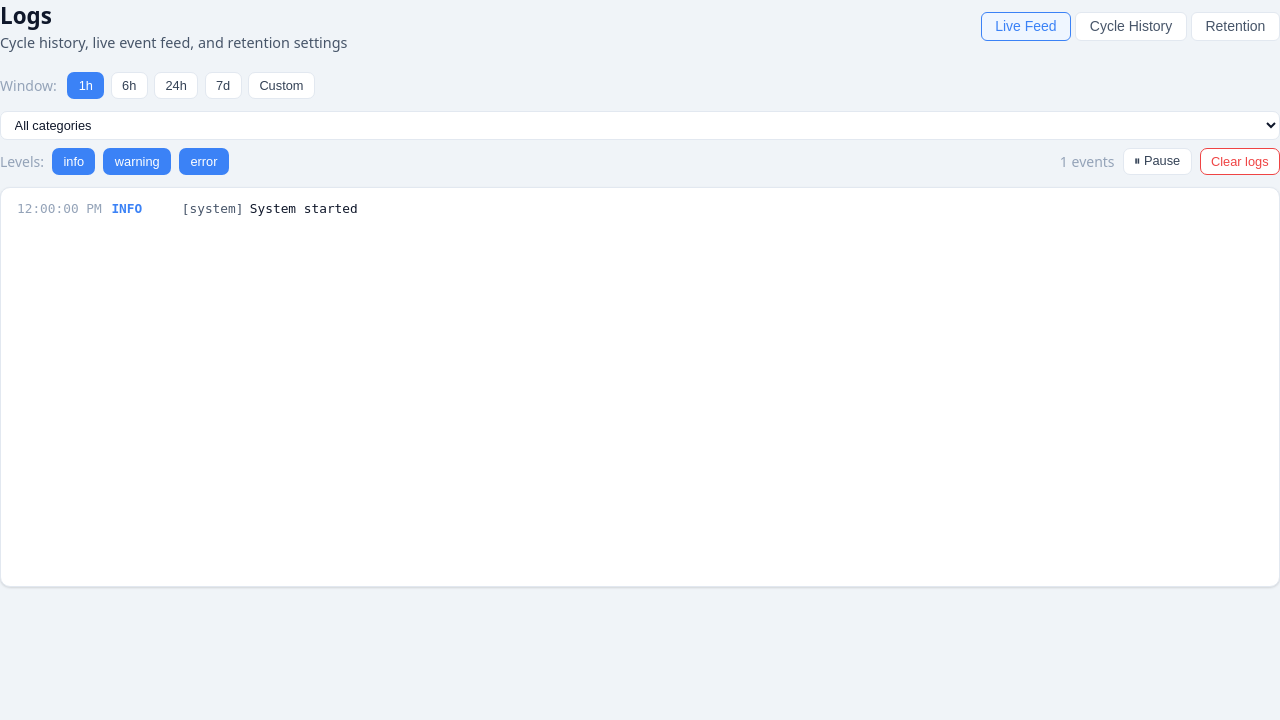
Test case: Logs Page › cancelling the clear modal does not clear logs
Expected: the text "System started" is shown, [250,201,358,216]
Click the button "Clear logs" at (1240, 161), box [1200,148,1279,175]
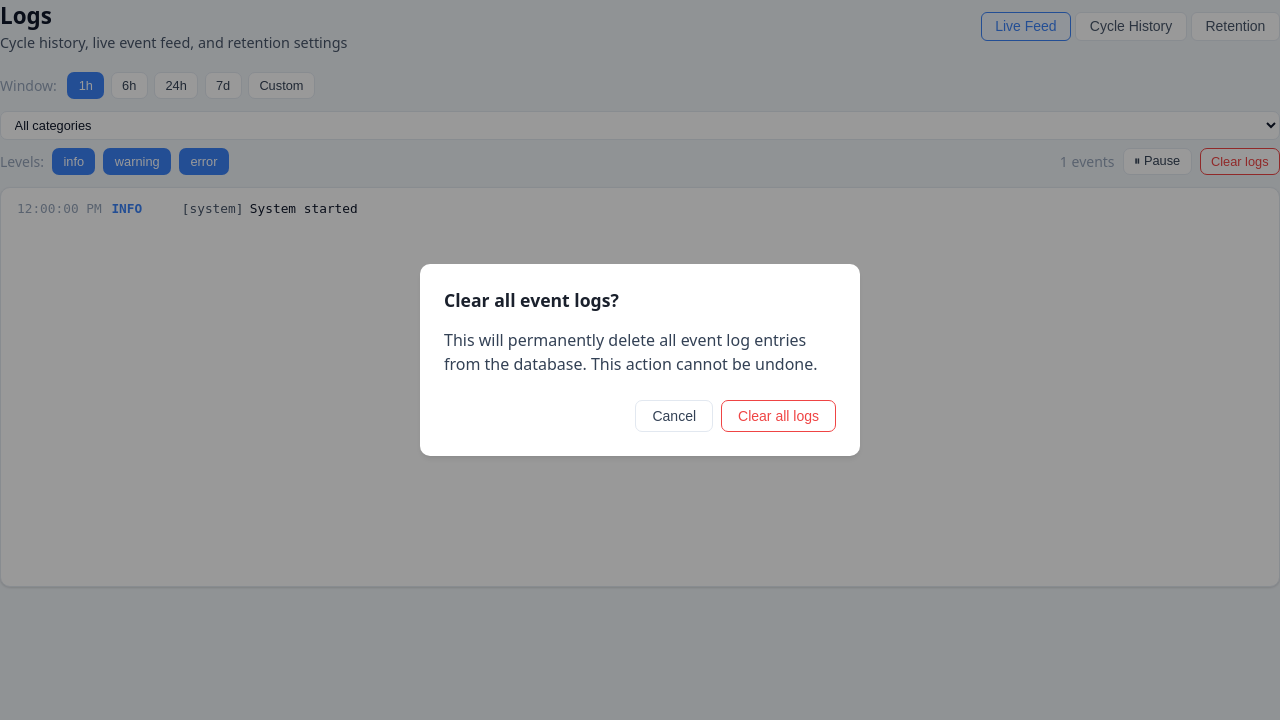
Click the button "Cancel" at (674, 416), box [636,400,713,432]
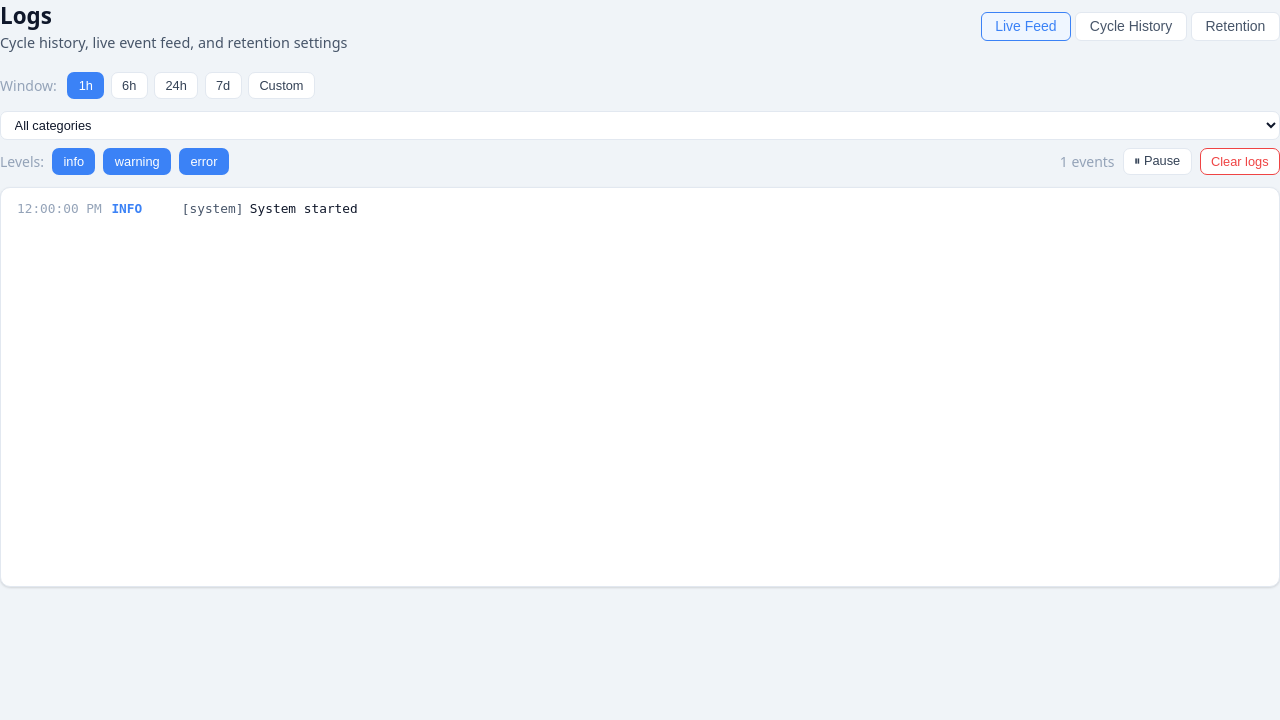
Expected: the button "Clear all logs" is gone
